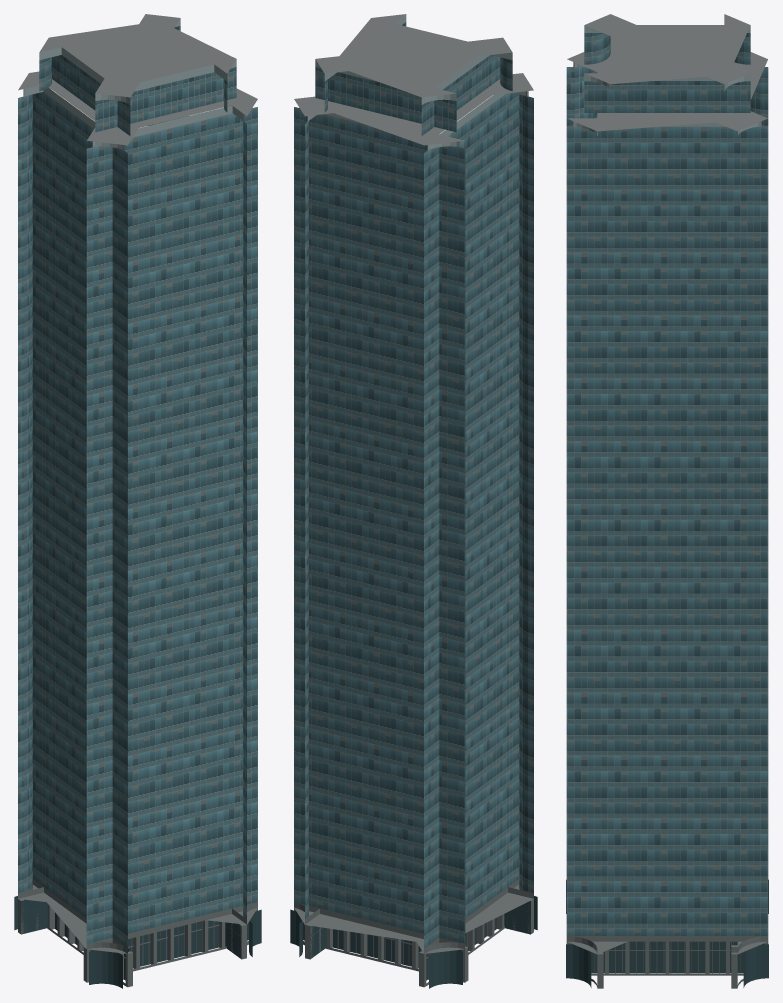
Rendered from two_union_square.glb.
3 views of the same model, side by side, from view 1: azimuth 30°, elevation 25°; view 2: azimuth 150°, elevation 25°; view 3: azimuth 270°, elevation 25° (orthographic).
Visible parts, largest first — view 1: two_union_square; view 2: two_union_square; view 3: two_union_square.
Boxes of the visible parts, <box> form: two_union_square: <box>14,14,261,988</box>; two_union_square: <box>290,14,537,988</box>; two_union_square: <box>566,14,768,988</box>.
Size of the model in its own units: 46.35 by 226 by 46.35.
Materials: 2 (2 with a texture image).
